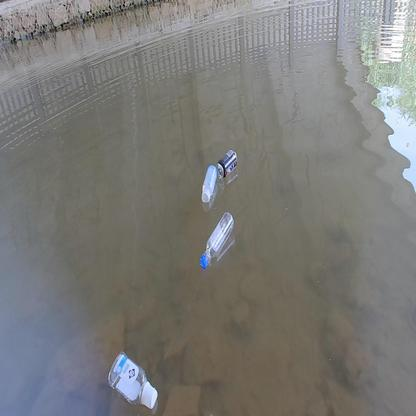can: (216, 149, 238, 177)
plastic bottle: (106, 350, 159, 408), (199, 211, 235, 268), (201, 164, 216, 203)
